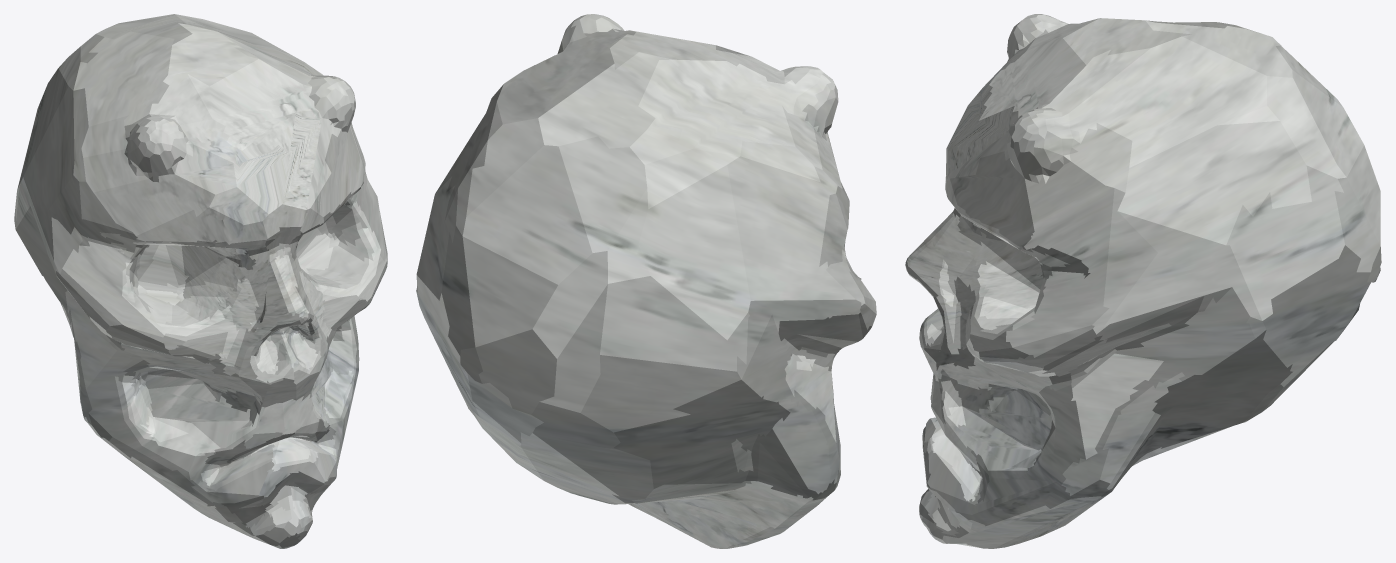
The model's file is skull.glb.
3 views of the same model, side by side, from view 1: azimuth 30°, elevation 25°; view 2: azimuth 150°, elevation 25°; view 3: azimuth 270°, elevation 25° (orthographic). The views are drawn at different scales.
Visible parts, largest first — view 1: Sphere; view 2: Sphere; view 3: Sphere.
Boxes of the visible parts, left/top/right/bottom form: Sphere: left=14, top=14, right=387, bottom=548; Sphere: left=416, top=14, right=876, bottom=548; Sphere: left=905, top=14, right=1381, bottom=548.
Size of the model in its own units: 1.35 by 1.83 by 1.54.
1 material, 1 textured.
